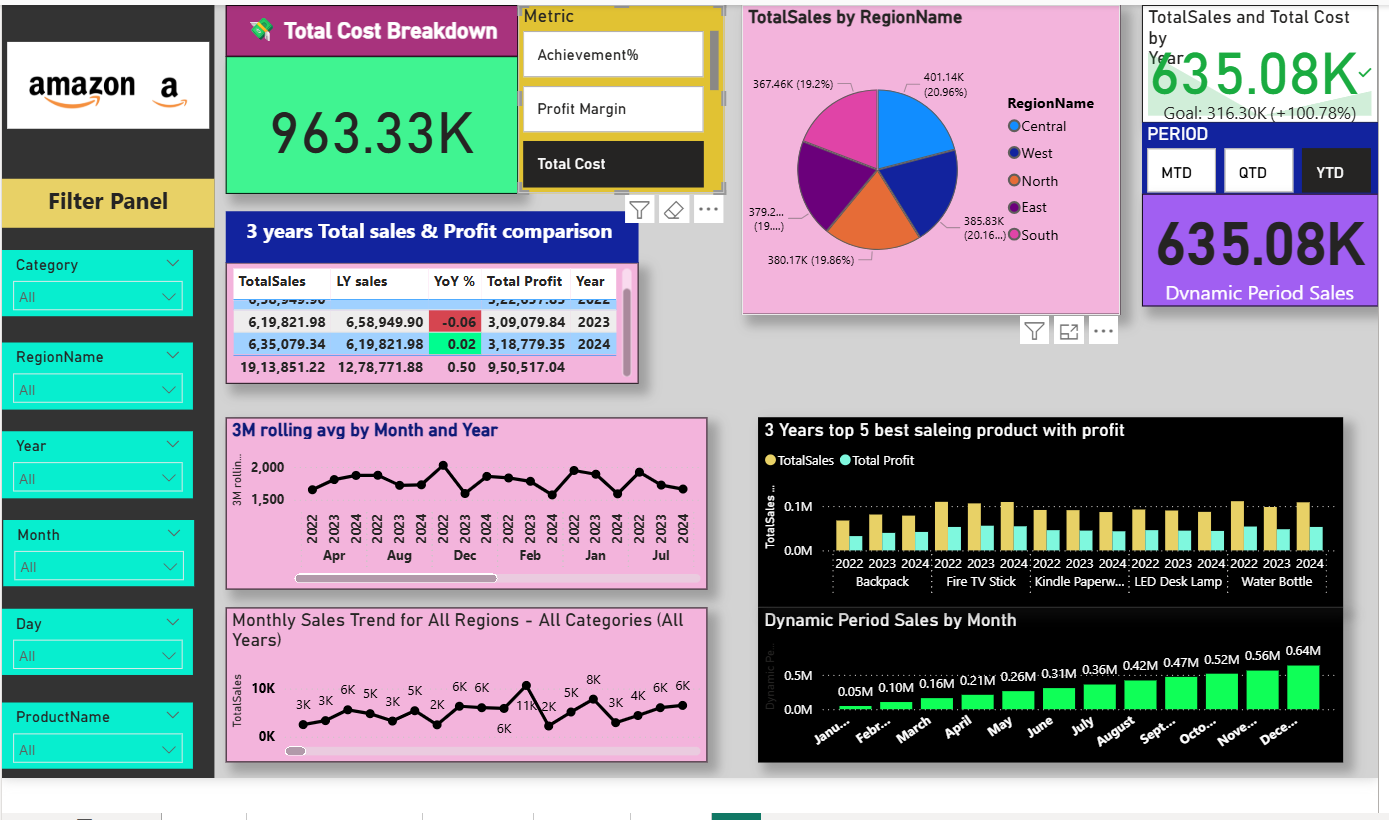

This screenshot's page, from the dashboard's own definition file:
{"tool":"powerbi","page":{"name":"Sales ","canvas":[1280,720],"ordinal":0},"visuals":[{"type":"textbox","box":[0,0,197.7,719.8],"z":0},{"type":"image","box":[0,15.1,197.7,118.6],"z":1000},{"type":"textbox","box":[0,161.6,197.7,45.3],"z":2000},{"type":"kpi","fields":{"TrendLine":["Date.Date.Variation.Date Hierarchy.Year"],"Goal":["SalesRaw.Total Cost"],"Indicator":["SalesRaw.TotalSales"]},"box":[1060.6,0,219.8,109.3],"z":3000},{"type":"tableEx","fields":{"Values":["SalesRaw.TotalSales","SalesRaw.LY sales","SalesRaw.YoY %","SalesRaw.Total Profit","Date.Date.Variation.Date Hierarchy.Year"]},"box":[208,240,384,112],"z":4000},{"type":"textbox","box":[208,192,384,48],"z":5000},{"type":"lineChart","fields":{"Y":["SalesRaw.3M rolling avg"],"Category":["Date.Month","Date.Date.Variation.Date Hierarchy.Year"]},"box":[208,384,448,160],"z":6000},{"type":"slicer","fields":{"Values":["ProductMaster.Category"]},"box":[0,227.9,177.9,61.6],"z":7000},{"type":"slicer","fields":{"Values":["RegionMaster.RegionName"]},"box":[0,314,177.9,62.8],"z":8000},{"type":"slicer","fields":{"Values":["Date.Date.Variation.Date Hierarchy.Year"]},"box":[0,396.5,177.9,62.8],"z":9000},{"type":"lineChart","fields":{"Y":["SalesRaw.TotalSales"],"Category":["Date.Date.Variation.Date Hierarchy.Month","Date.Date.Variation.Date Hierarchy.Day"]},"box":[208,560,448,144],"z":10000},{"type":"slicer","fields":{"Values":["Date.Date.Variation.Date Hierarchy.Month"]},"box":[1.2,479.1,177.9,61.6],"z":11000},{"type":"slicer","fields":{"Values":["Date.Date.Variation.Date Hierarchy.Day"]},"box":[0,561.6,177.9,61.6],"z":12000},{"type":"slicer","fields":{"Values":["ProductMaster.ProductName"]},"box":[0,648.8,177.9,61.6],"z":13000},{"type":"advancedSlicerVisual","fields":{"Values":["Period Selector.PERIOD"]},"box":[1060.6,109.3,219.8,71],"z":14000},{"type":"clusteredColumnChart","fields":{"Category":["Date.Date.Variation.Date Hierarchy.Month"],"Y":["Period Selector.Dynamic Period Sales"]},"box":[704,560,544,144],"z":15000},{"type":"card","fields":{"Values":["Period Selector.Dynamic Period Sales"]},"box":[1060.6,175.8,219.8,104.8],"z":16000},{"type":"clusteredColumnChart","title":"3 Years top 5 best saleing product with profit ","fields":{"Category":["ProductMaster.ProductName","Date.Date.Variation.Date Hierarchy.Year"],"Y":["SalesRaw.TotalSales","SalesRaw.Total Profit"]},"box":[704,384,544,176],"z":17000},{"type":"card","fields":{"Values":["MetricToggle.DynamicMetricValue"]},"box":[208,48,272,128],"z":18000},{"type":"advancedSlicerVisual","fields":{"Values":["MetricToggle.Metric"]},"box":[480,0,192,176],"z":19000},{"type":"card","fields":{"Values":["MetricToggle.DynamicCardTitle"]},"box":[208,0,272,48],"z":20000},{"type":"pieChart","fields":{"Y":["SalesRaw.TotalSales"],"Category":["RegionMaster.RegionName"]},"box":[688,0,352,288],"z":21000}]}

Visuals, with their boxes on the page's 1280x720 design canvas (x1, y1, x2, y2). These are canvas units, not pixel positions in the 1389x820 screenshot, which may show the page scaled, cropped or inside an application window:
textbox: select_region(0, 0, 198, 720)
image: select_region(0, 15, 198, 134)
textbox: select_region(0, 162, 198, 207)
kpi - Date.Date.Variation.Date Hierarchy.Year x SalesRaw.Total Cost: select_region(1061, 0, 1280, 109)
tableEx - SalesRaw.TotalSales x SalesRaw.LY sales: select_region(208, 240, 592, 352)
textbox: select_region(208, 192, 592, 240)
lineChart - SalesRaw.3M rolling avg x Date.Month: select_region(208, 384, 656, 544)
slicer - ProductMaster.Category: select_region(0, 228, 178, 290)
slicer - RegionMaster.RegionName: select_region(0, 314, 178, 377)
slicer - Date.Date.Variation.Date Hierarchy.Year: select_region(0, 396, 178, 459)
lineChart - SalesRaw.TotalSales x Date.Date.Variation.Date Hierarchy.Month: select_region(208, 560, 656, 704)
slicer - Date.Date.Variation.Date Hierarchy.Month: select_region(1, 479, 179, 541)
slicer - Date.Date.Variation.Date Hierarchy.Day: select_region(0, 562, 178, 623)
slicer - ProductMaster.ProductName: select_region(0, 649, 178, 710)
advancedSlicerVisual - Period Selector.PERIOD: select_region(1061, 109, 1280, 180)
clusteredColumnChart - Date.Date.Variation.Date Hierarchy.Month x Period Selector.Dynamic Period Sales: select_region(704, 560, 1248, 704)
card - Period Selector.Dynamic Period Sales: select_region(1061, 176, 1280, 281)
"3 Years top 5 best saleing product with profit " clusteredColumnChart: select_region(704, 384, 1248, 560)
card - MetricToggle.DynamicMetricValue: select_region(208, 48, 480, 176)
advancedSlicerVisual - MetricToggle.Metric: select_region(480, 0, 672, 176)
card - MetricToggle.DynamicCardTitle: select_region(208, 0, 480, 48)
pieChart - SalesRaw.TotalSales x RegionMaster.RegionName: select_region(688, 0, 1040, 288)
